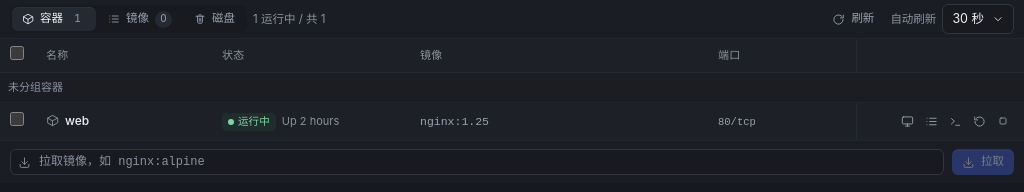
Test: docker log stream follow › exposes the log container with role=log and a label
The width and height of the screenshot is (1024, 192).
Click the button titled "查看日志". click: [931, 121]
box: top-left (920, 110), bottom-right (942, 132)
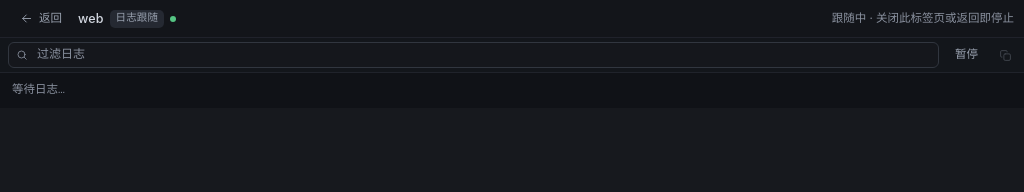
Result: the element showing "等待日志…" is shown at top-left (0, 73), bottom-right (1023, 108)
